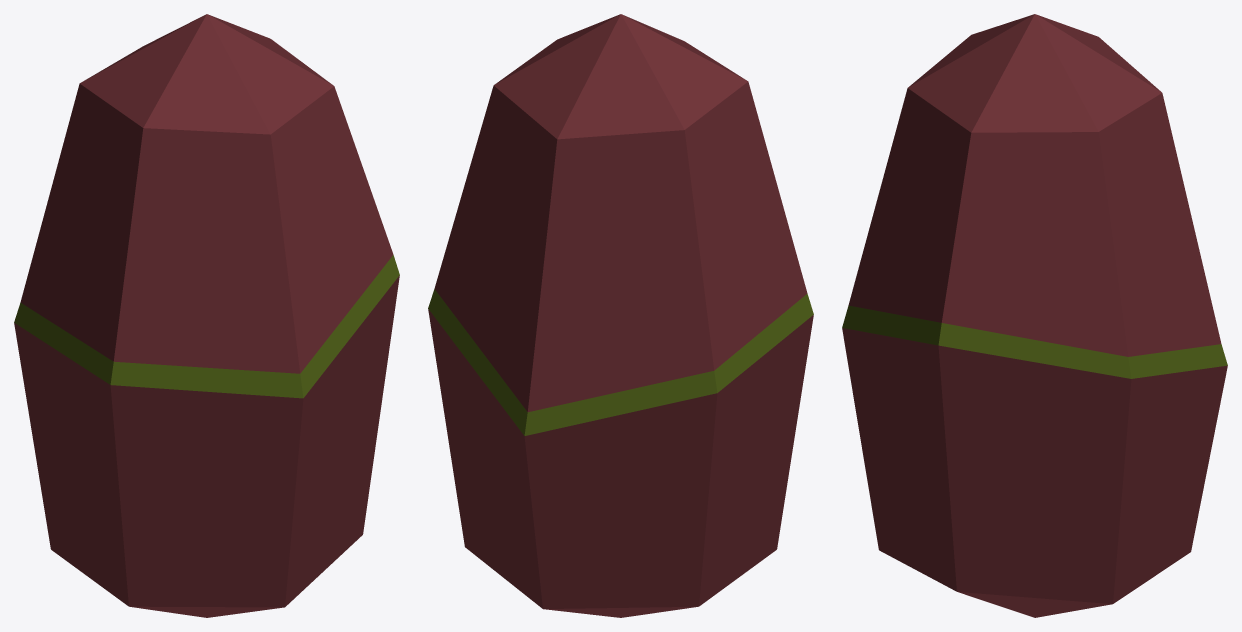
The model's file is longSeed.fbx.
3 renders of one model, left to right at view 1: azimuth 30°, elevation 25°; view 2: azimuth 150°, elevation 25°; view 3: azimuth 270°, elevation 25°, orthographic.
Visible parts, largest first — view 1: Sphere; view 2: Sphere; view 3: Sphere.
Boxes of the visible parts, box(x1,y1,x2,y2) form: Sphere: box(14, 14, 399, 617); Sphere: box(428, 14, 813, 617); Sphere: box(842, 14, 1227, 617).
Size of the model in its own units: 71.9 by 143 by 83.03.
